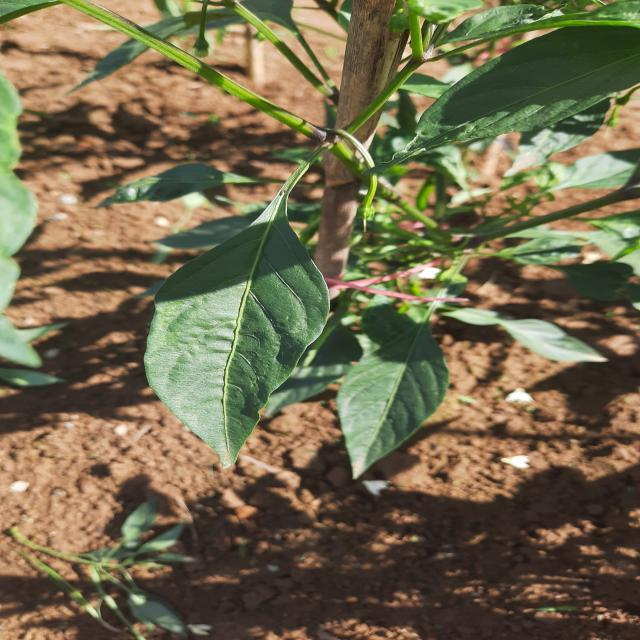sehat: (125, 212, 350, 470), (319, 318, 472, 488)
